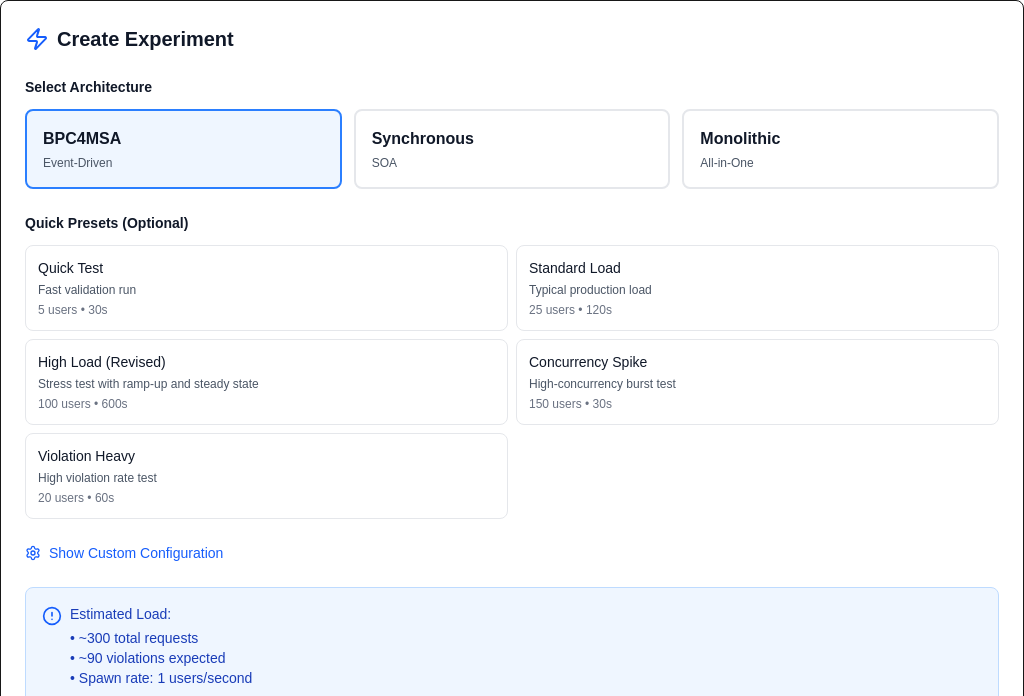
Test: ExperimentControlAdvanced - New Presets › Ramp-Up Duration Field › should display ramp-up duration slider in advanced mode
// Open advanced settings
Click the button "Show Custom Configuration" at (124, 553), box [25,543,223,563]
(page scrolled)
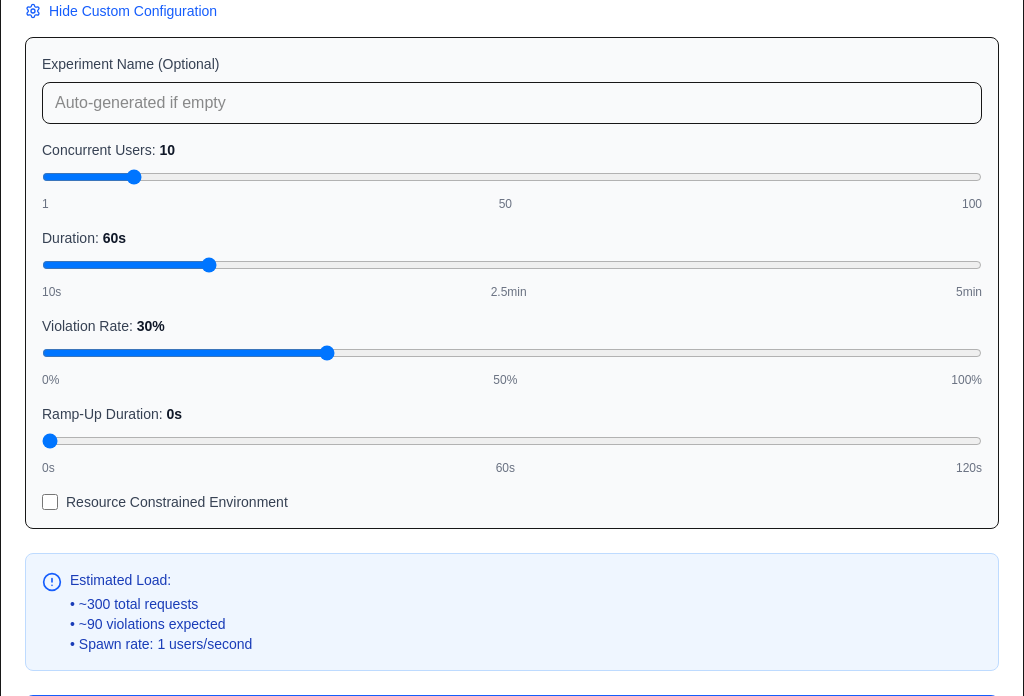
Result: the text "Ramp-Up Duration: 0s" is shown at [42,406,182,422]
